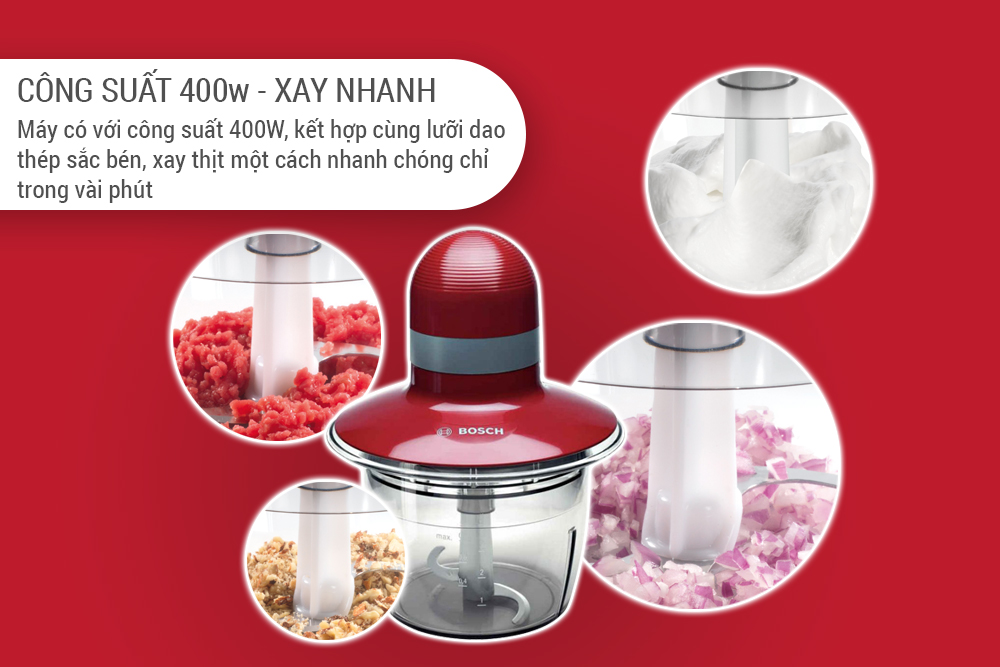Bosch: (453, 420, 512, 443)
